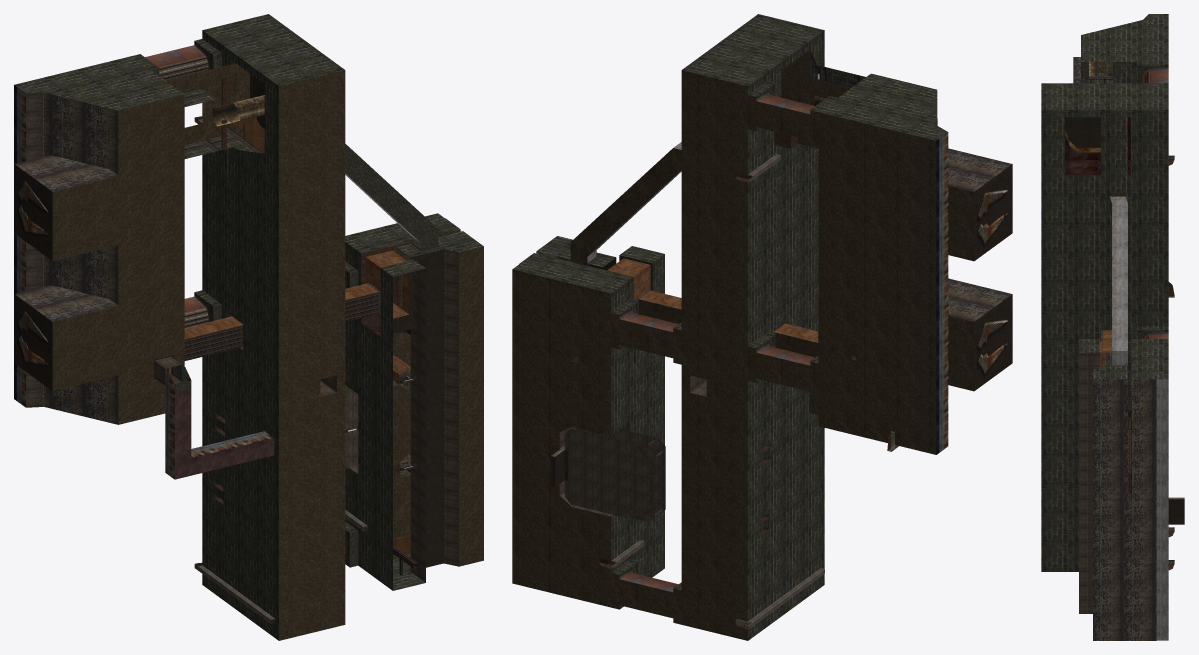
File: DM-Compression.obj
3 views of the same model, side by side, from view 1: azimuth 30°, elevation 25°; view 2: azimuth 150°, elevation 25°; view 3: azimuth 270°, elevation 25° (orthographic). The views are drawn at different scales.
Parts seen in each view (by area): view 1: Mine_Floor_Mironfx3, Indus1_Stonestuff_ralPanBk, RainFX_Concrete, Mine_Wall_Ironwal, Mine_Base_MCMETL, Mine_Deco_Mcmetl_22, Mine_Floor_Mironfx2, RainFX_Blok-tin, Mine_Base_Mbrkbase2, RainFX_Rmetl2, RainFX_r-plates, RainFX_Rtrim1a (+8 smaller); view 2: Mine_Floor_Mironfx2, Indus1_Stonestuff_ralPanBk, Mine_Base_Ironwalx, Mine_Deco_Mcmetl_22, UTtech1_Misc_UTdirt1, RainFX_Blok-tin, RainFX_Concrete, Indus1_Stonestuff_rPanMtl1, RainFX_r-plates, Mine_pillar_mPillar1, Mine_Base_MCMETL, Mine_Base_Rust2 (+2 smaller); view 3: Indus1_Stonestuff_ralPanBk, RainFX_Concrete, Slums_Stone_StoneP15, Mine_Wall_Ironwal, Mine_Base_MCMETL, RainFX_hatch3, Indus1_Stonestuff_rPnchdr1, Indus1_Stonestuff_rPanMtl1, RainFX_r-plates, Mine_Wall_IRNWALL4, Mine_Base_Rust2.
Part boxes in pixels (x1,y1,x2,y2): Mine_Floor_Mironfx3: [52, 70, 483, 640]; Indus1_Stonestuff_ralPanBk: [14, 14, 483, 640]; RainFX_Concrete: [15, 92, 410, 476]; Mine_Wall_Ironwal: [26, 92, 458, 582]; Mine_Base_MCMETL: [153, 78, 443, 623]; Mine_Deco_Mcmetl_22: [14, 164, 52, 390]; Mine_Floor_Mironfx2: [166, 63, 410, 538]; RainFX_Blok-tin: [14, 85, 273, 479]; Mine_Base_Mbrkbase2: [151, 68, 438, 567]; RainFX_Rmetl2: [174, 389, 274, 479]; RainFX_r-plates: [165, 250, 410, 473]; RainFX_Rtrim1a: [184, 292, 378, 360]; Mine_Floor_Mironfx2: [512, 70, 974, 640]; Indus1_Stonestuff_ralPanBk: [513, 14, 947, 640]; Mine_Base_Ironwalx: [564, 428, 665, 521]; Mine_Deco_Mcmetl_22: [974, 164, 1012, 390]; UTtech1_Misc_UTdirt1: [570, 148, 818, 357]; RainFX_Blok-tin: [936, 132, 948, 454]; RainFX_Concrete: [536, 148, 1011, 321]; Indus1_Stonestuff_rPanMtl1: [620, 94, 814, 592]; RainFX_r-plates: [607, 258, 818, 342]; Mine_pillar_mPillar1: [551, 154, 898, 628]; Mine_Base_MCMETL: [551, 64, 792, 628]; Mine_Base_Rust2: [569, 66, 890, 629]; Indus1_Stonestuff_ralPanBk: [1041, 14, 1168, 571]; RainFX_Concrete: [1073, 57, 1156, 640]; Slums_Stone_StoneP15: [1110, 196, 1168, 640]; Mine_Wall_Ironwal: [1079, 330, 1102, 613]; Mine_Base_MCMETL: [1065, 75, 1184, 524]; RainFX_hatch3: [1065, 117, 1130, 175]; Indus1_Stonestuff_rPnchdr1: [1137, 65, 1168, 338]; Indus1_Stonestuff_rPanMtl1: [1148, 69, 1168, 338]; RainFX_r-plates: [1100, 330, 1111, 367]; Mine_Wall_IRNWALL4: [1128, 420, 1131, 500]; Mine_Base_Rust2: [1090, 79, 1174, 570].
Bounding box in the file's own units: 65.23 × 78.03 × 21.95.
